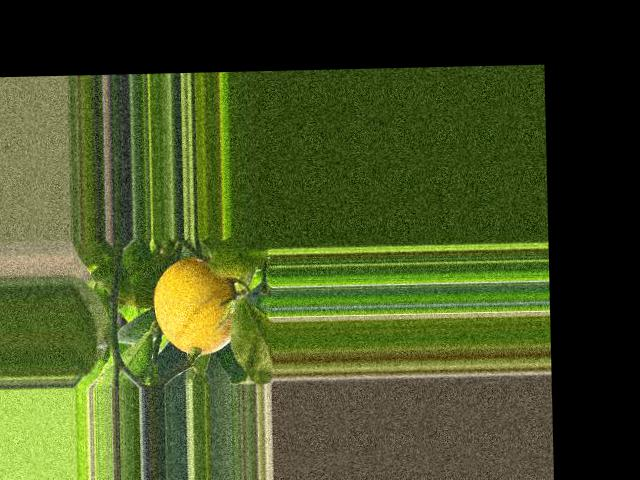lemon: (146, 253, 245, 360)
